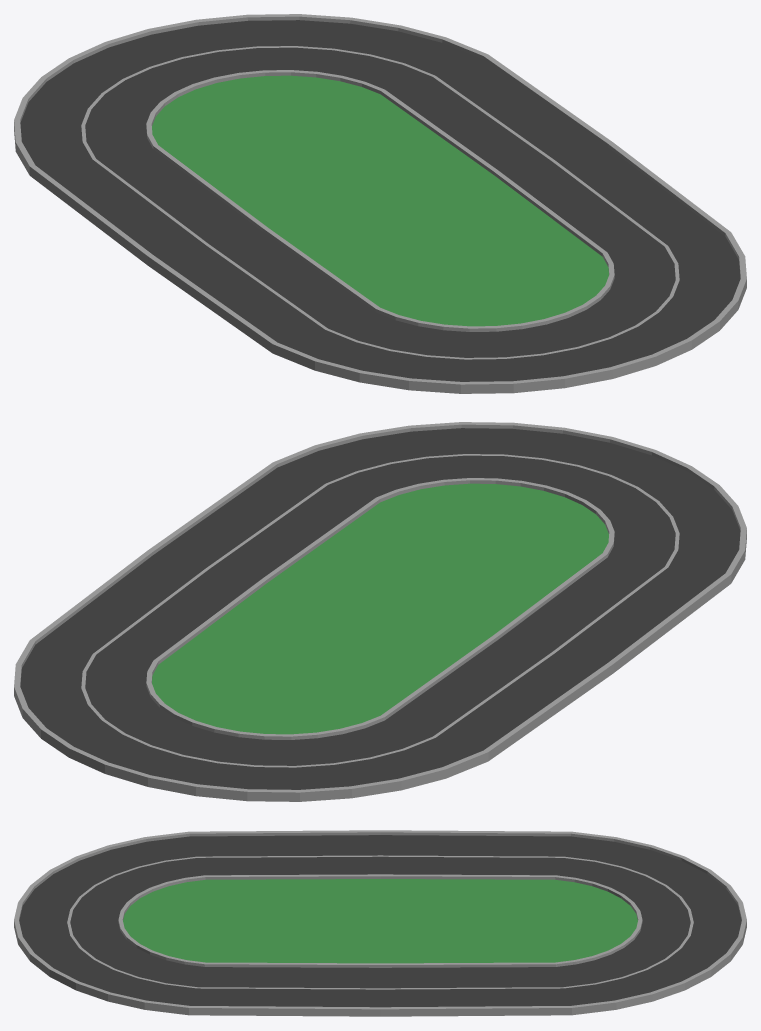
Rendered from course_BasicBeta.fbx.
The picture shows the model from 3 angles, top to bottom: view 1: azimuth 30°, elevation 25°; view 2: azimuth 150°, elevation 25°; view 3: azimuth 270°, elevation 25°; orthographic projection. The views are drawn at different scales.
Parts seen in each view (by area): view 1: Cylinder; view 2: Cylinder; view 3: Cylinder.
Part boxes in pixels (box(x1,y1,x2,y2)): Cylinder: box(14, 14, 746, 393); Cylinder: box(14, 422, 746, 801); Cylinder: box(14, 830, 746, 1016).
Size of the model in its own units: 4107 by 79.4 by 7107.
